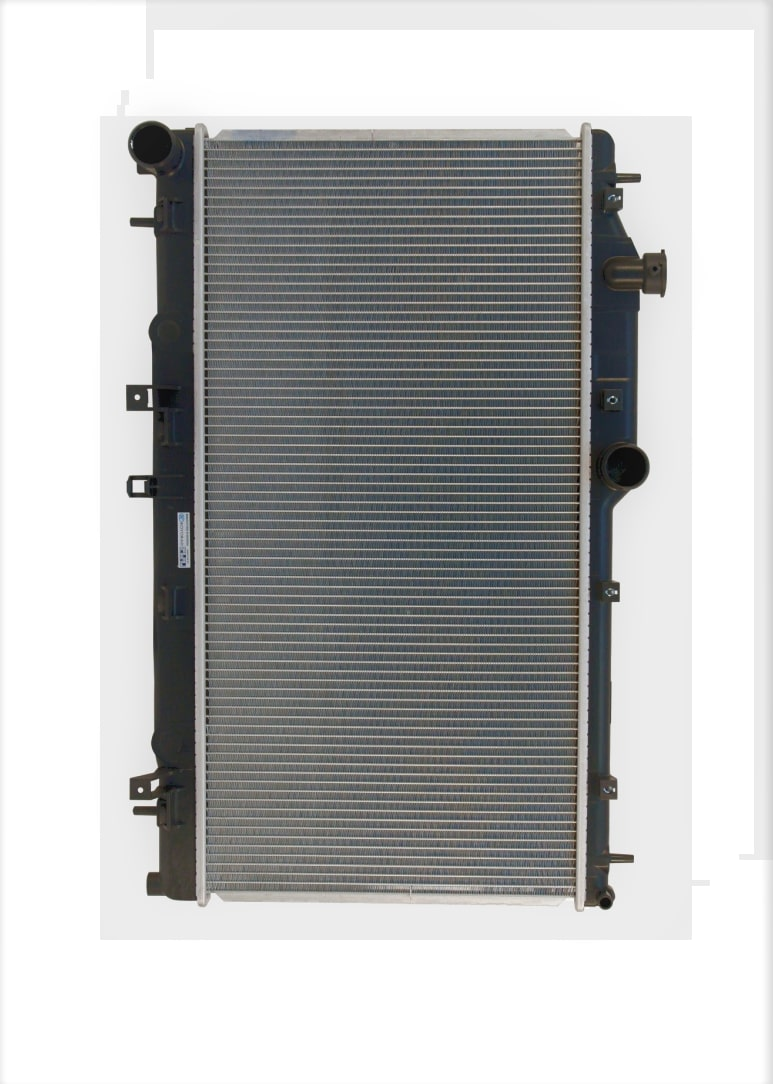c1: (601, 170, 642, 212)
c10: (155, 319, 184, 346)
c11: (124, 381, 191, 448)
c12: (126, 472, 191, 503)
c13: (155, 584, 190, 621)
c14: (128, 765, 190, 832)
c2: (600, 246, 668, 300)
c3: (601, 386, 626, 412)
c4: (598, 441, 652, 491)
c5: (597, 576, 623, 604)
c6: (595, 774, 621, 801)
c7: (594, 851, 634, 910)
c8: (125, 119, 189, 181)
c9: (129, 192, 186, 238)
